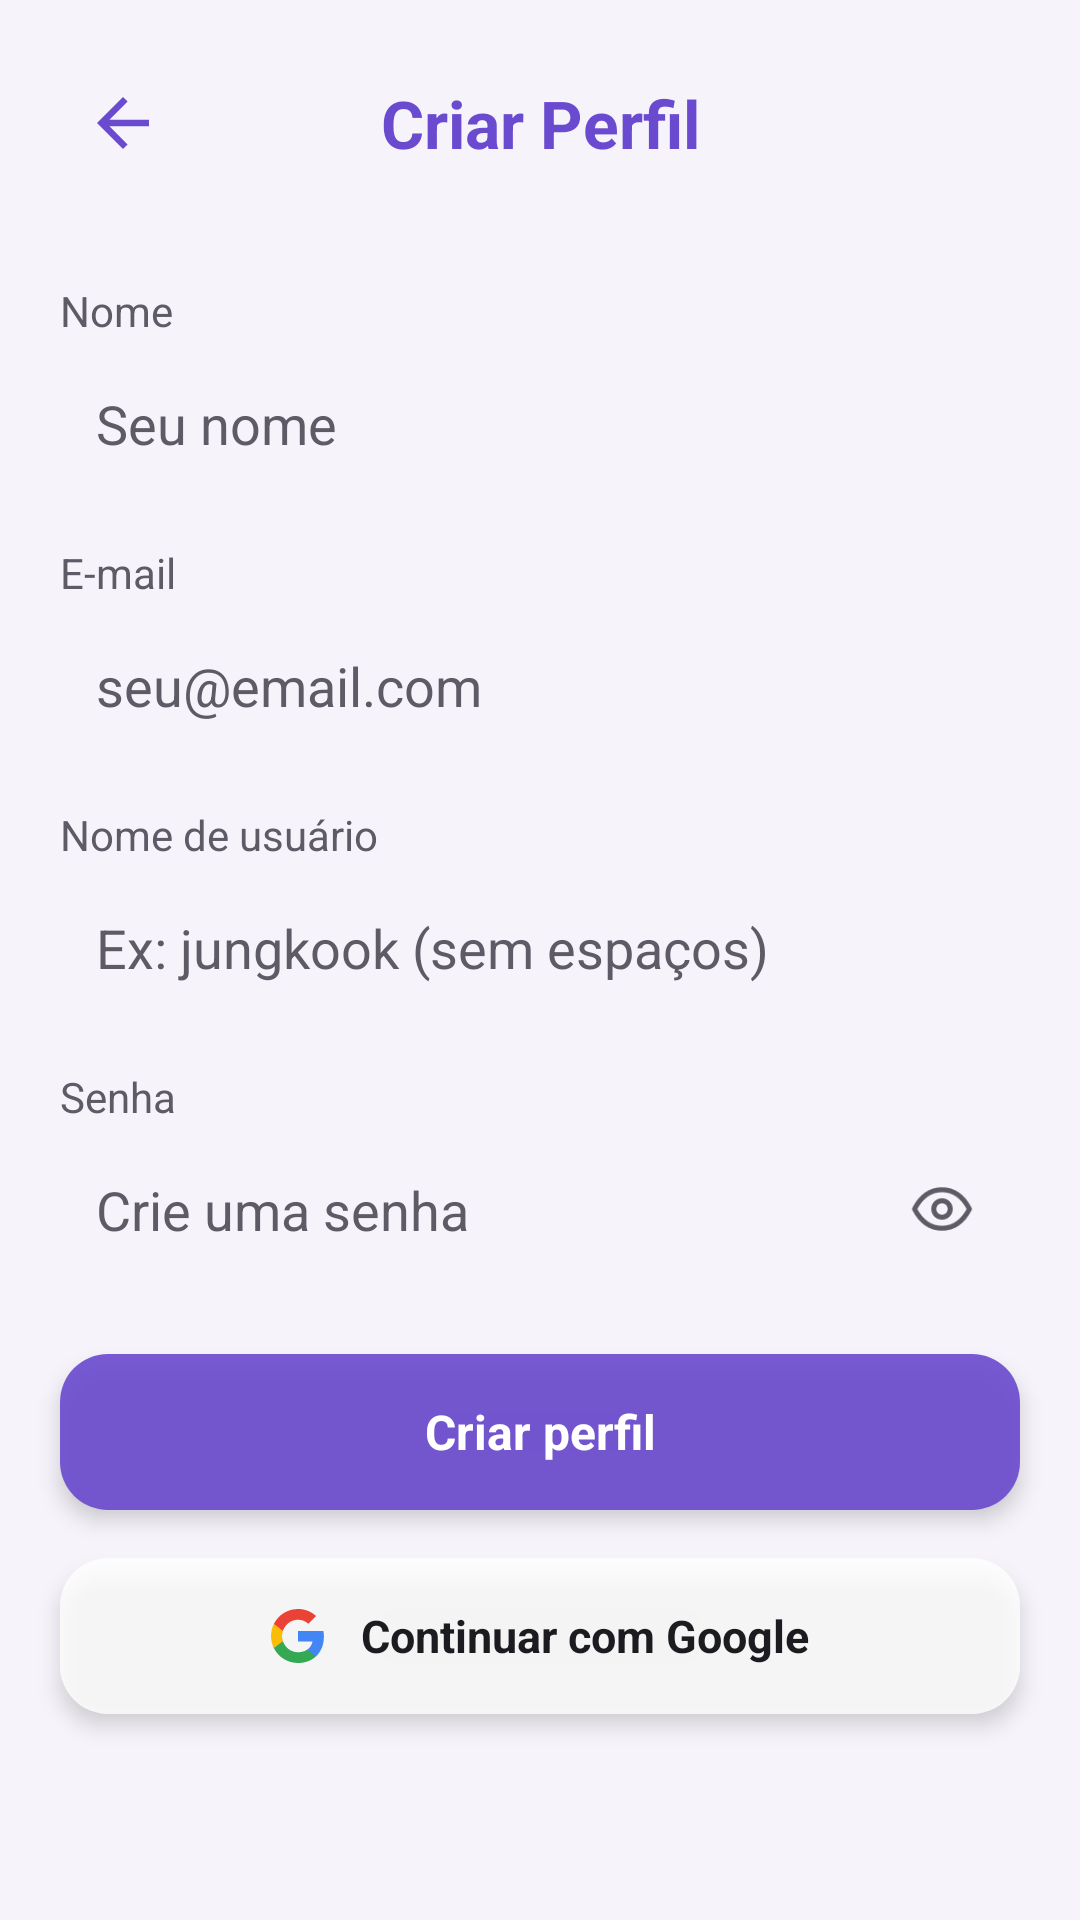

Where icons sit on this 1080 × 1920 app screen, as rect(x1, y1, x2, y2):
back: rect(97, 97, 149, 149)
Mostrar senha: rect(912, 1187, 972, 1231)
